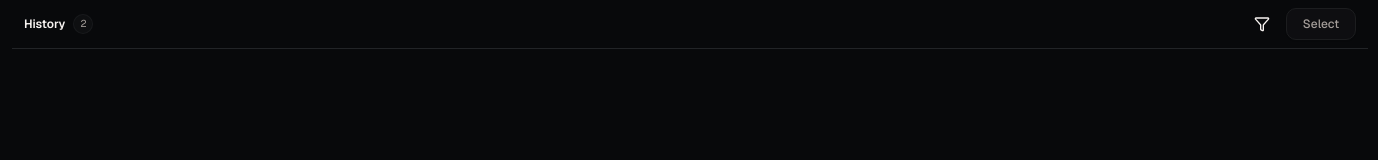
PersistentImageGallery › bulk delete actions › clears selection and exits selection mode after successful delete
Note: Enter selection mode and select an item
Click the button with test id "toggle-selection".
click(1321, 24)  # box [1286, 8, 1356, 40]
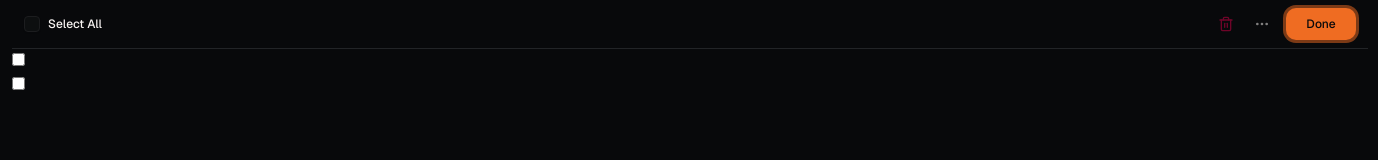
Click the 1st element with test id "gallery-thumbnail".
click(18, 60)  # box [12, 53, 25, 66]
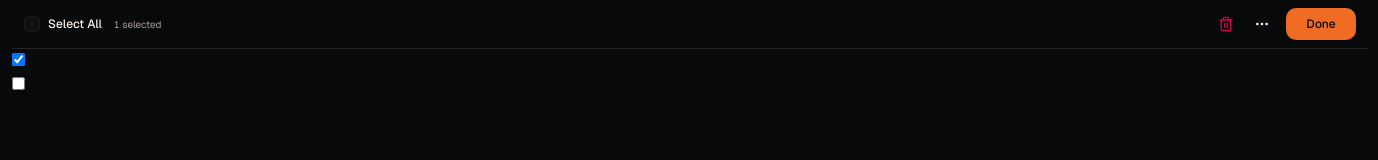
expect the text "1 selected" is shown: met, box [114, 16, 162, 32]
Note: Click delete button
Click the button with test id "delete-selected".
click(1226, 24)  # box [1210, 8, 1242, 40]
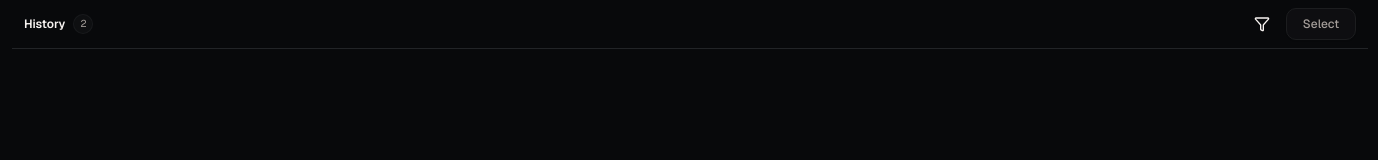
expect the text "1 selected" is gone: met
